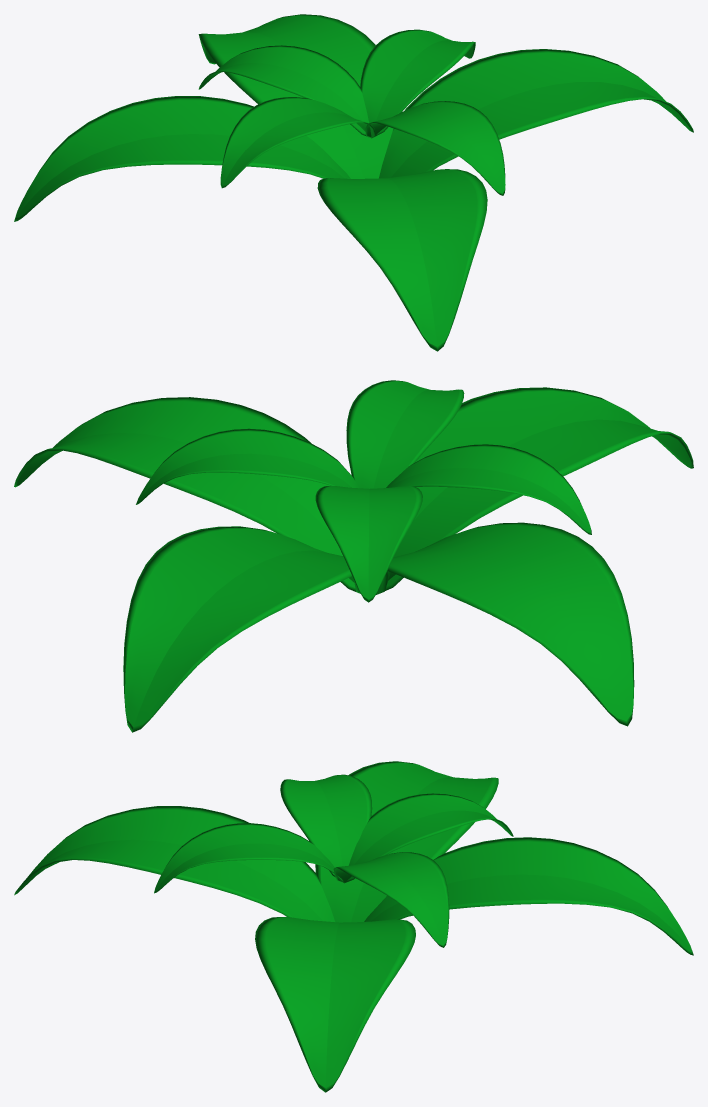
The model's file is PalmGrass2.fbx.
The picture shows the model from 3 angles, top to bottom: view 1: azimuth 30°, elevation 25°; view 2: azimuth 150°, elevation 25°; view 3: azimuth 270°, elevation 25°; orthographic projection. The views are drawn at different scales.
Visible parts, largest first — view 1: PalmGrass2; view 2: PalmGrass2; view 3: PalmGrass2.
Part boxes in pixels (x1,y1,x2,y2): PalmGrass2: [14, 14, 693, 351]; PalmGrass2: [14, 380, 693, 732]; PalmGrass2: [14, 761, 693, 1092].
Bounding box in the file's own units: 10.85 × 10.95 × 2.17.
